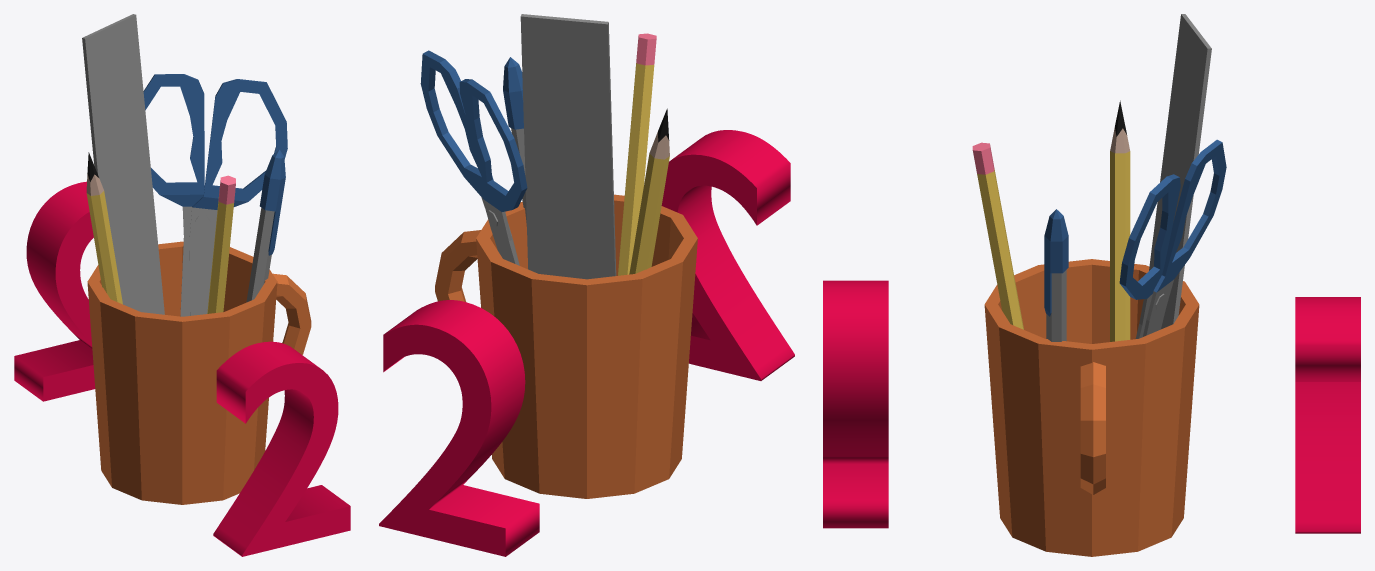
Rendered from number2.glb.
3 views of the same model, side by side, from view 1: azimuth 30°, elevation 25°; view 2: azimuth 150°, elevation 25°; view 3: azimuth 270°, elevation 25° (orthographic). The views are drawn at different scales.
Parts seen in each view (by area): view 1: Mug with office tools, Text.003, Text.001; view 2: Mug with office tools, Text.001, Text.003; view 3: Mug with office tools, Text.003, Text.001.
Boxes of the visible parts, x1,y1,x2,y2 form: Mug with office tools: (82, 14, 311, 504); Text.003: (213, 341, 350, 556); Text.001: (14, 181, 95, 401); Mug with office tools: (420, 14, 697, 498); Text.001: (379, 300, 539, 556); Text.003: (661, 130, 794, 380); Mug with office tools: (972, 14, 1226, 556); Text.003: (823, 280, 888, 528); Text.001: (1295, 297, 1360, 533).
Size of the model in its own units: 1.58 by 2.98 by 3.08.
2 materials, 1 textured.
